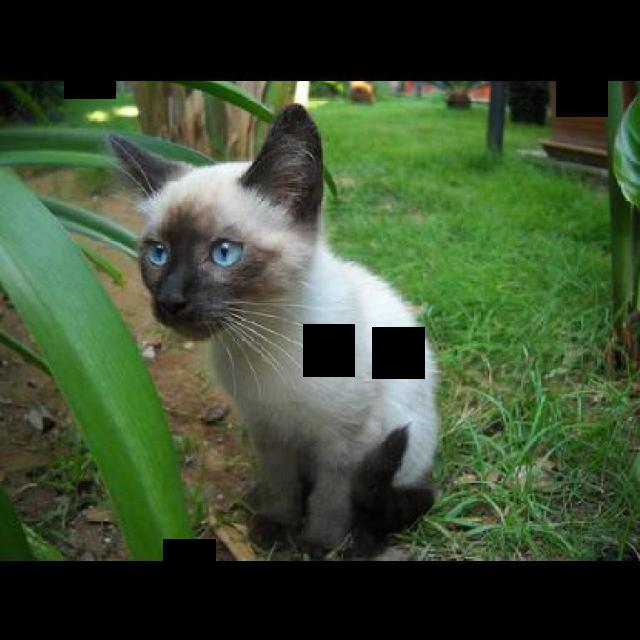unauthorized: (104, 101, 442, 557)
